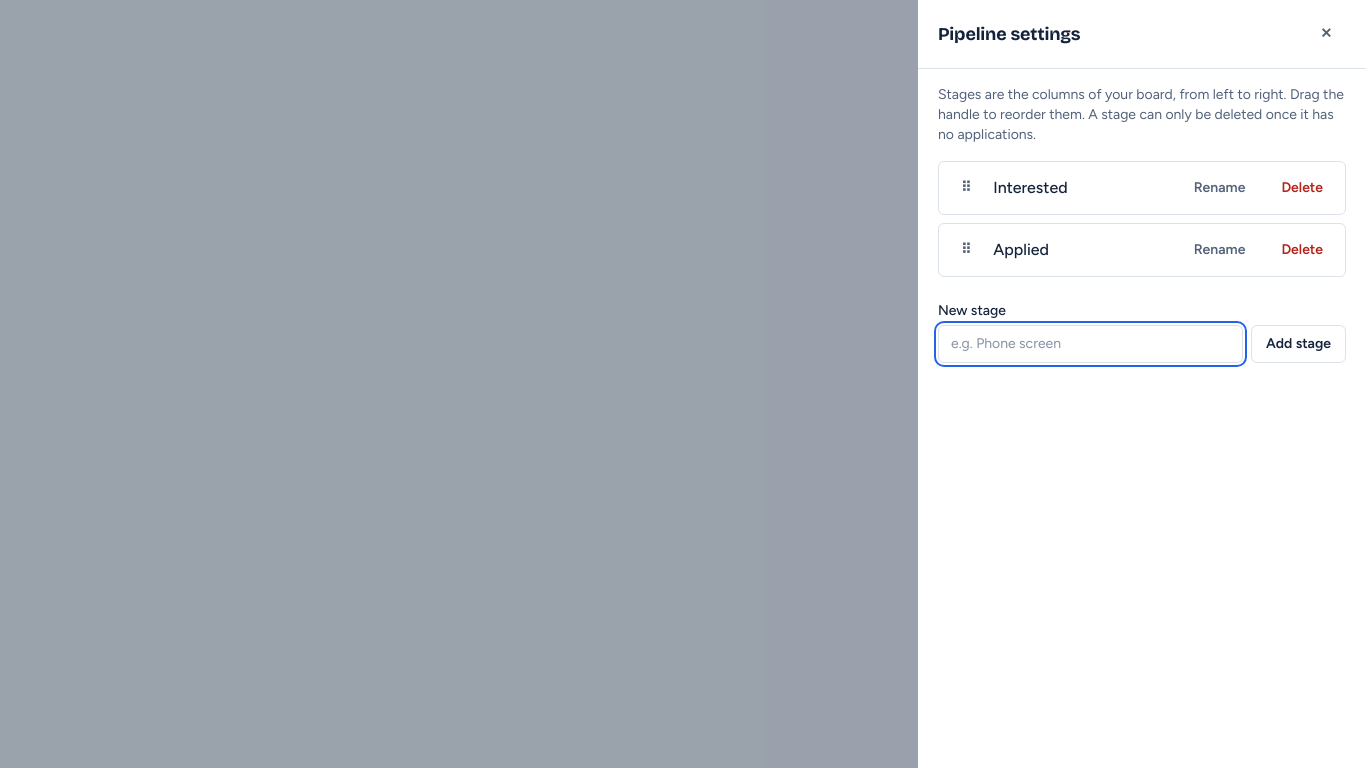
renames a stage
This screenshot has width=1366, height=768.
Click the button with aria-label "Rename Applied": [1220, 250] box [1180,232,1259,268]
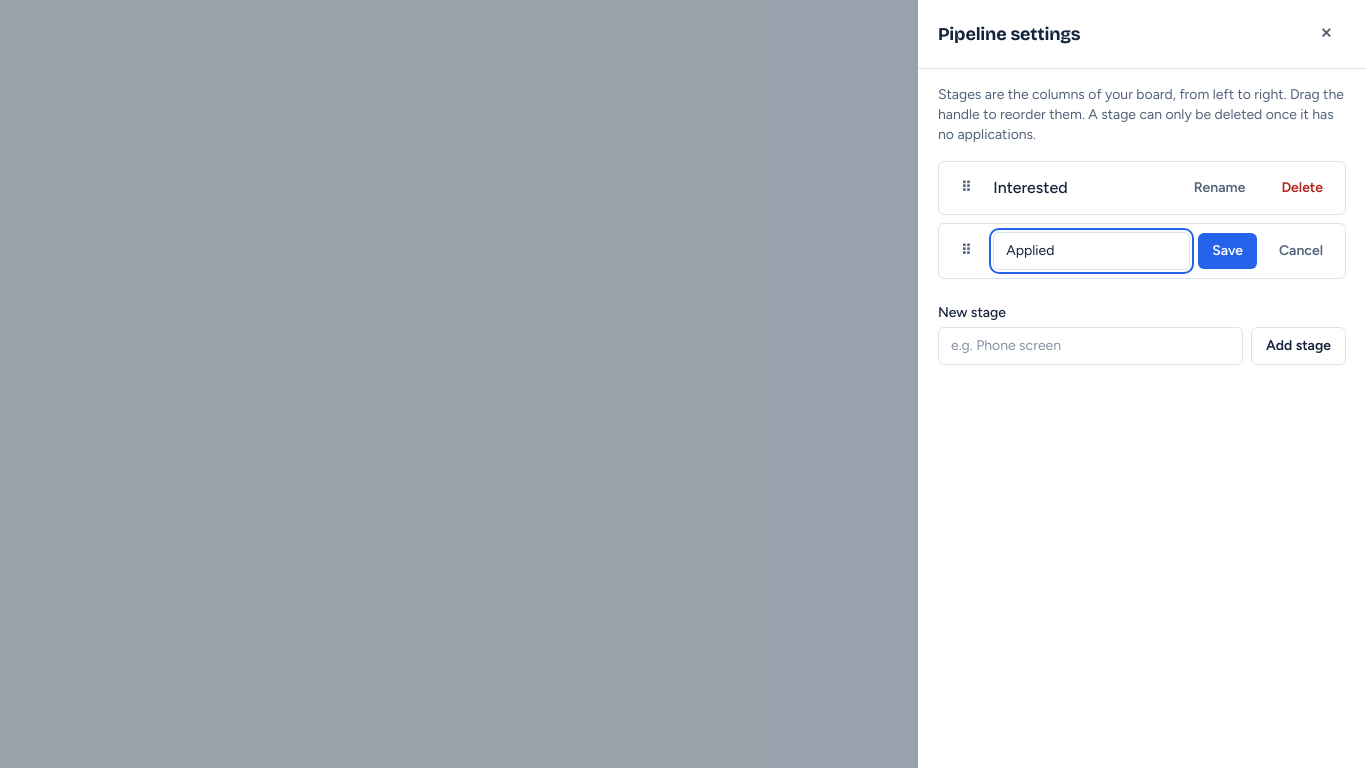
Replace the text in the field named "Name for Applied" with "Submitted": [1092, 251] box [993,232,1190,270]
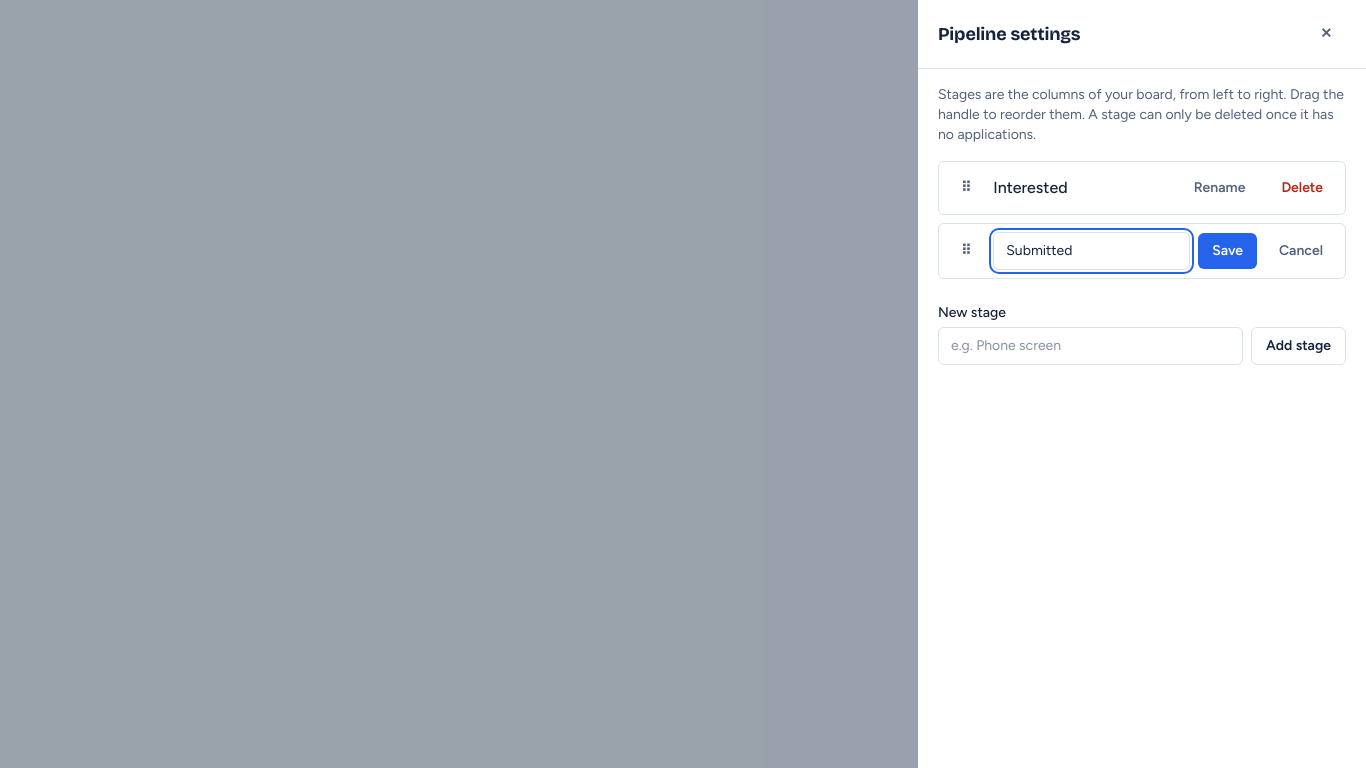
Click the button "Save": [1228, 251] box [1198,233,1257,269]
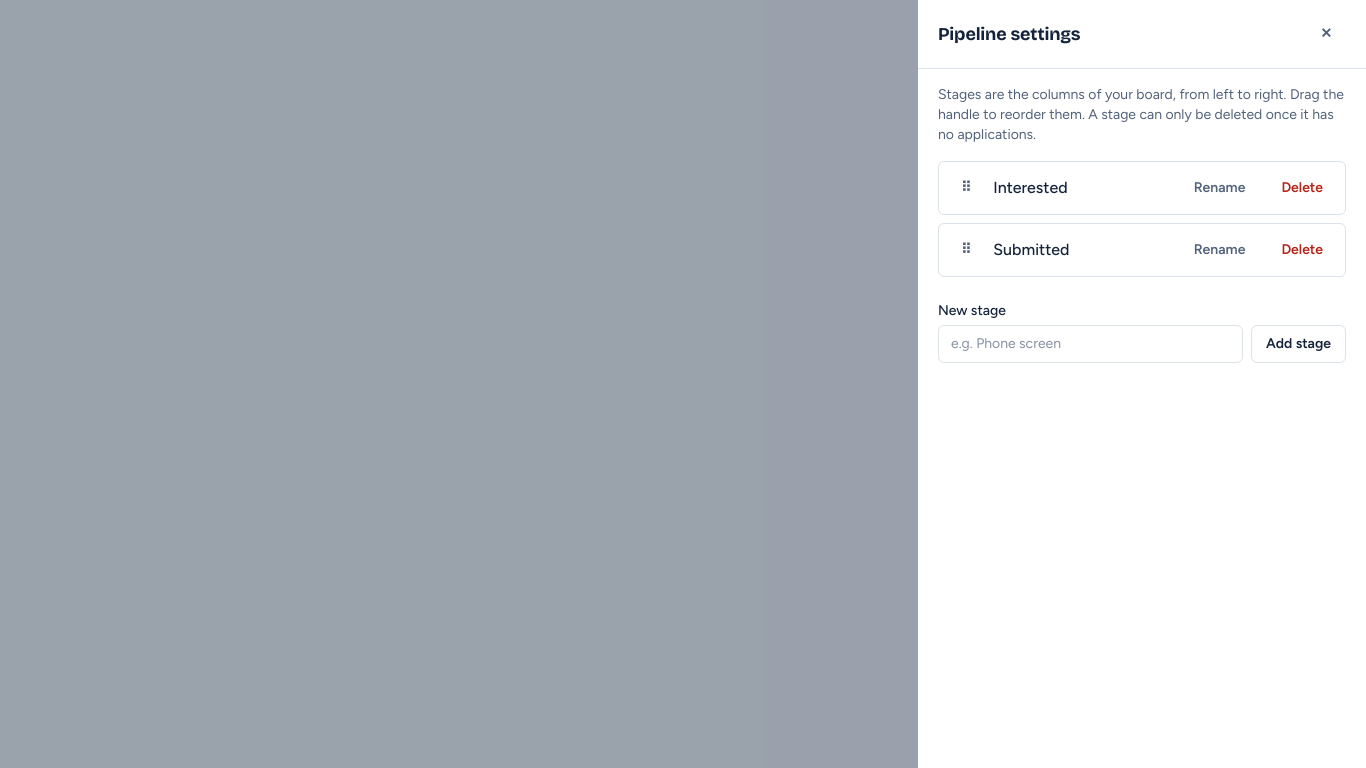
Now the text "Submitted" is shown, box [993,240,1070,259]
